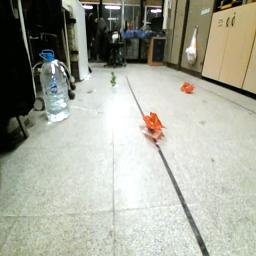herb: (110, 72, 119, 88)
wild: (142, 110, 168, 134), (181, 82, 198, 95)
